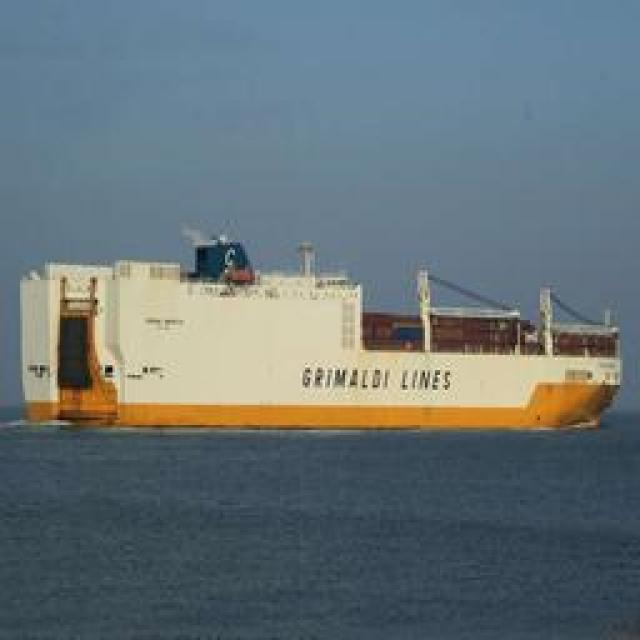ship2: (21, 236, 623, 433)
